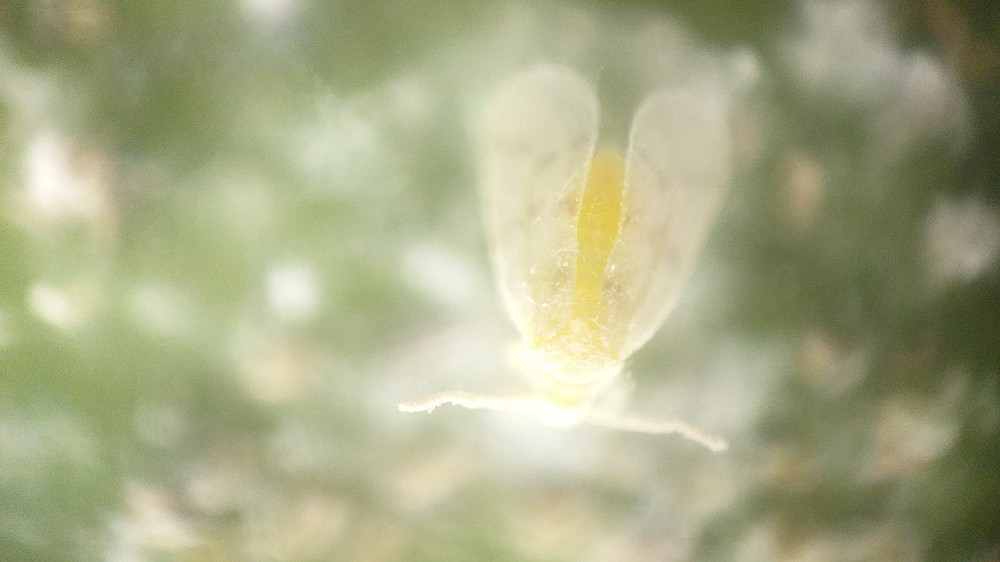Mosca Blanca: (388, 58, 746, 481)
